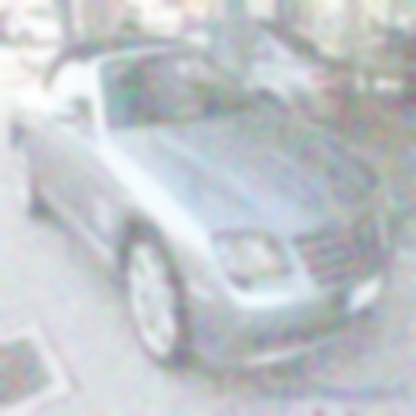Vehicle: (9, 37, 401, 376)
